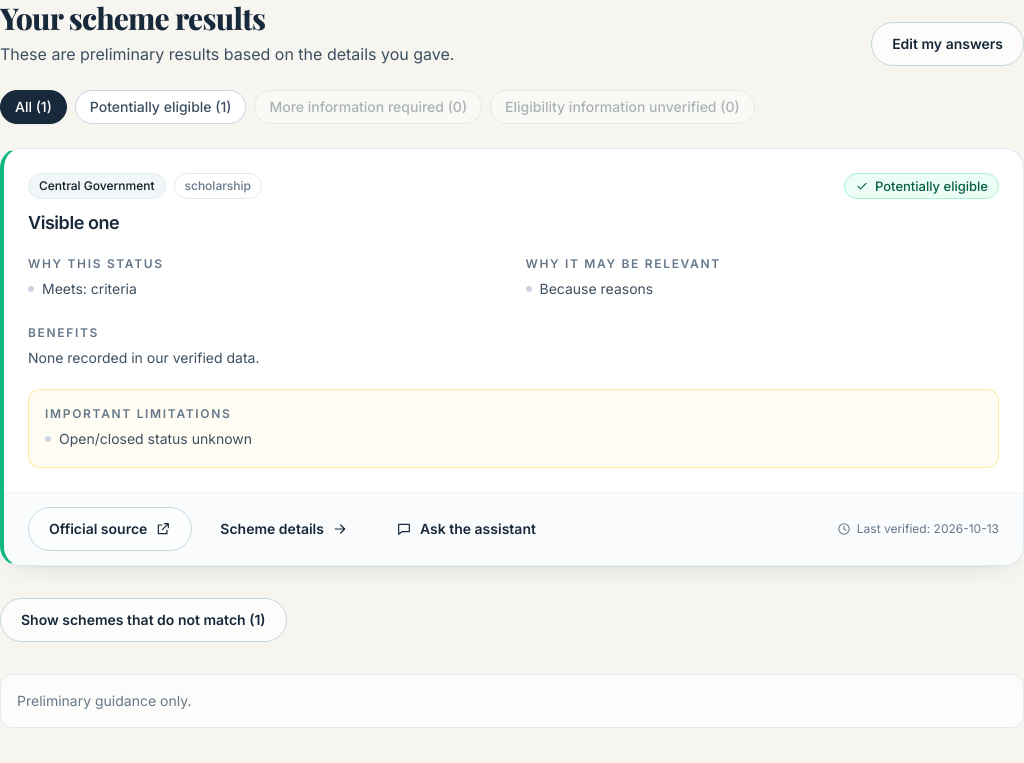
it: Results page › hides non-matching schemes until the user asks
Check: the heading "Visible one" is shown, box [28,212,119,233]
Check: the text "Hidden one" is not shown
Click the button "Show schemes that do not match (1)" at {"x": 143, "y": 620}, box [0,598,286,642]
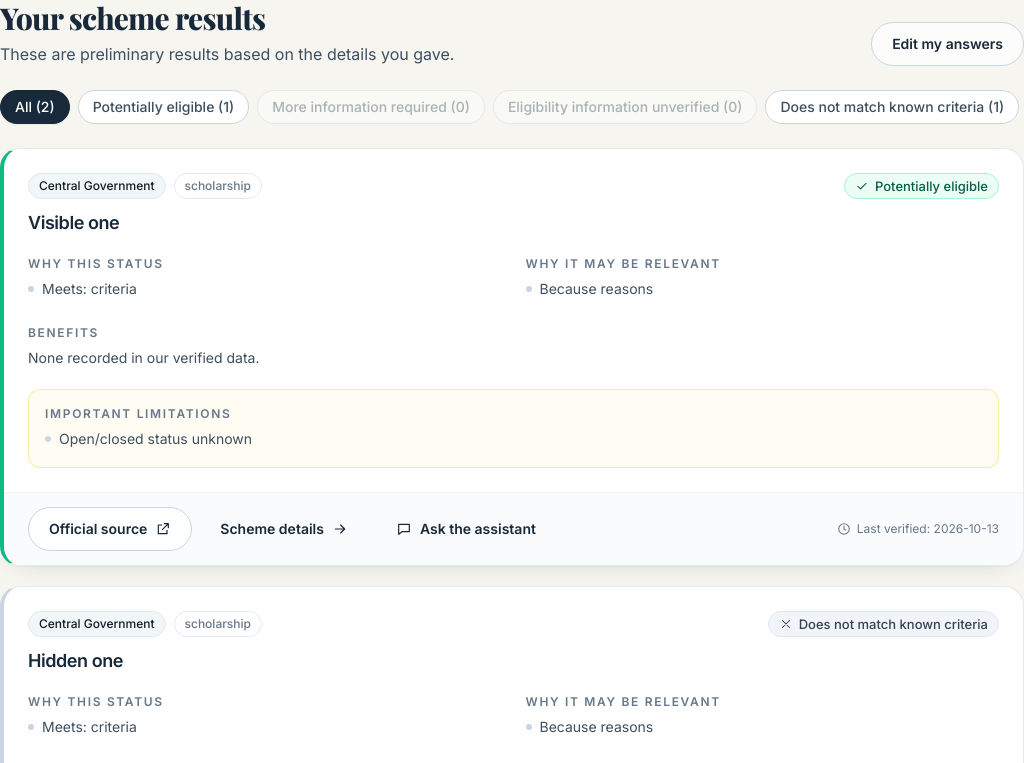
Check: the heading "Hidden one" is shown, box [28,650,123,671]
